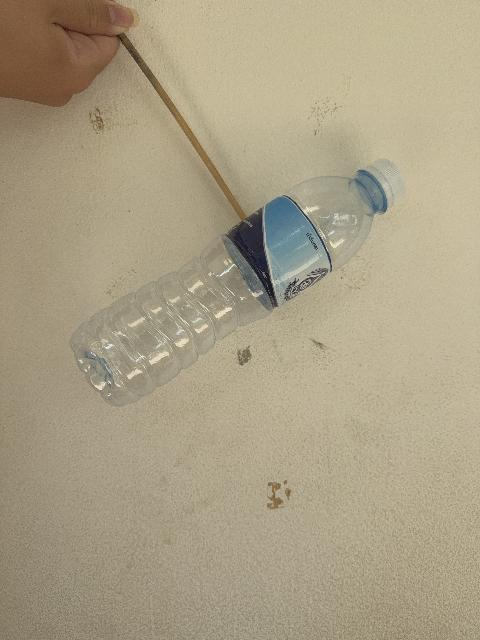bottle: (71, 160, 405, 406)
